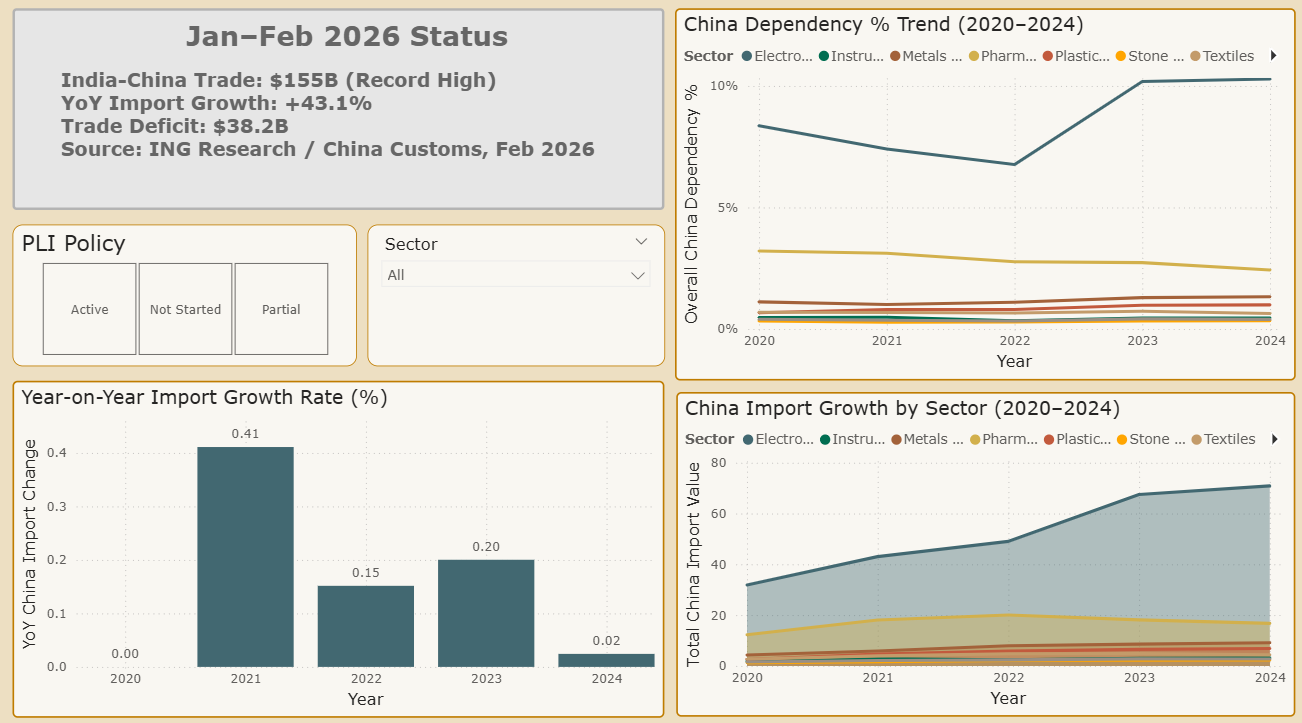

The page's visual inventory and layout, read from the dashboard file:
{"tool":"powerbi","page":{"name":"Trend Tracker","canvas":[1280,720],"ordinal":3},"visuals":[{"type":"lineChart","title":" China Dependency % Trend (2020–2024)","fields":{"Category":["Sector_Import_Data.Year"],"Y":["Sector_Import_Data.Overall China Dependency %"],"Series":["Sector_Import_Data.Sector"]},"box":[662.9,11.4,605.7,362.9],"z":0},{"type":"areaChart","title":"China Import Growth by Sector (2020–2024)","fields":{"Category":["Sector_Import_Data.Year"],"Y":["Sector_Import_Data.Total China Import Value"],"Series":["Sector_Import_Data.Sector"]},"box":[664.3,385.7,604.3,317.1],"z":1000},{"type":"slicer","title":"PLI Policy","fields":{"Values":["Policy_Tracker.Status"]},"box":[17.1,221.4,335.7,138.6],"z":2000},{"type":"slicer","fields":{"Values":["Sector_Import_Data.Sector"]},"box":[362.9,221.4,290,138.6],"z":3000},{"type":"clusteredColumnChart","title":"Year-on-Year Import Growth Rate (%)","fields":{"Category":["Sector_Import_Data.Year"],"Y":["Sector_Import_Data.YoY China Import Change"]},"box":[17.1,374.3,635.7,328.6],"z":4000},{"type":"textbox","box":[17.1,11.4,635.7,197.1],"z":5000}]}

Visuals, with their boxes in screenshot pixels (x1, y1, x2, y2), scaled from the page's 1280x720 canvas onto the 1302x723 screenshot:
" China Dependency % Trend (2020–2024)" lineChart: left=674, top=11, right=1290, bottom=376
"China Import Growth by Sector (2020–2024)" areaChart: left=676, top=387, right=1290, bottom=706
"PLI Policy" slicer: left=17, top=222, right=359, bottom=362
slicer - Sector_Import_Data.Sector: left=369, top=222, right=664, bottom=362
"Year-on-Year Import Growth Rate (%)" clusteredColumnChart: left=17, top=376, right=664, bottom=706
textbox: left=17, top=11, right=664, bottom=209
